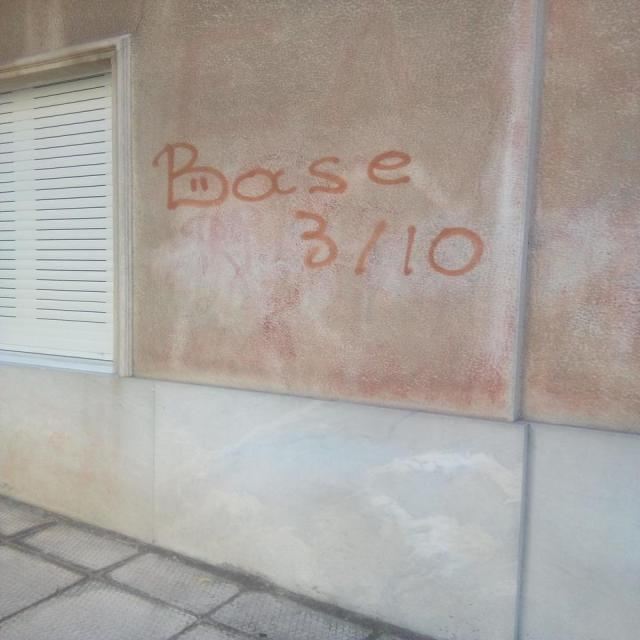nonspitting: (154, 141, 486, 279)
